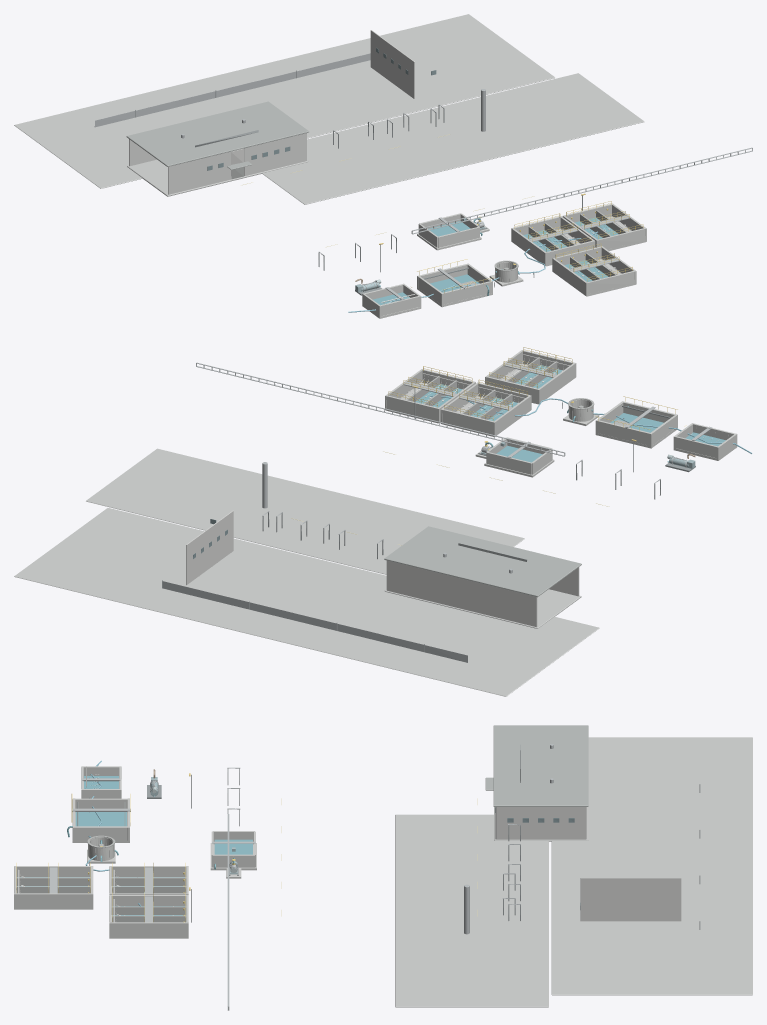
The picture shows the model from 3 angles, top to bottom: view 1: azimuth 30°, elevation 25°; view 2: azimuth 150°, elevation 25°; view 3: azimuth 270°, elevation 25°; orthographic projection. The views are drawn at different scales.
Parts seen in each view (by area): view 1: render-batch-13, render-batch-14, render-batch-7, render-batch-15, render-batch-9, render-batch-1, render-batch-19, render-batch-10, render-batch-11, render-batch-4; view 2: render-batch-13, render-batch-14, render-batch-15, render-batch-7, render-batch-9, render-batch-1, render-batch-10, render-batch-19, render-batch-11, render-batch-4, render-batch-16; view 3: render-batch-13, render-batch-14, render-batch-7, render-batch-15, render-batch-10, render-batch-1, render-batch-11, render-batch-9, render-batch-4, render-batch-19.
Boxes of the visible parts, <box> form: render-batch-13: <box>14,14,644,204</box>; render-batch-14: <box>362,203,646,318</box>; render-batch-7: <box>126,101,309,169</box>; render-batch-15: <box>129,30,414,194</box>; render-batch-9: <box>94,53,752,255</box>; render-batch-1: <box>373,217,618,305</box>; render-batch-19: <box>411,201,643,293</box>; render-batch-10: <box>461,210,626,286</box>; render-batch-11: <box>361,215,629,300</box>; render-batch-4: <box>135,70,582,287</box>; render-batch-13: <box>14,448,599,696</box>; render-batch-14: <box>385,350,737,477</box>; render-batch-15: <box>186,510,579,626</box>; render-batch-7: <box>384,526,581,597</box>; render-batch-9: <box>162,362,660,662</box>; render-batch-1: <box>415,365,725,462</box>; render-batch-10: <box>406,357,628,426</box>; render-batch-19: <box>388,347,686,450</box>; render-batch-11: <box>404,362,712,467</box>; render-batch-4: <box>162,388,660,652</box>; render-batch-16: <box>400,354,730,441</box>; render-batch-13: <box>395,737,752,1007</box>; render-batch-14: <box>14,766,256,938</box>; render-batch-7: <box>485,725,588,806</box>; render-batch-15: <box>495,807,681,921</box>; render-batch-10: <box>16,835,186,922</box>; render-batch-1: <box>17,776,252,915</box>; render-batch-11: <box>49,778,255,922</box>; render-batch-9: <box>227,744,553,1010</box>; render-batch-4: <box>89,744,700,929</box>; render-batch-19: <box>16,794,235,922</box>.
Size of the model in its own units: 130 by 10.03 by 140.
